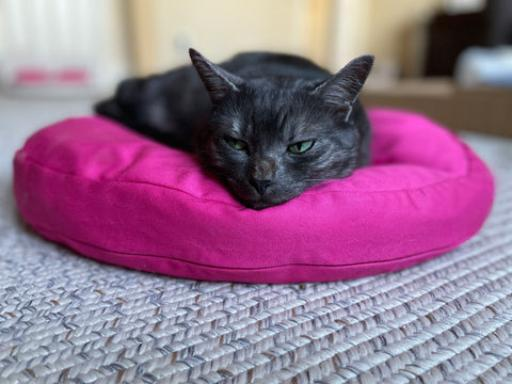cat_sleeping: (95, 49, 373, 208)
